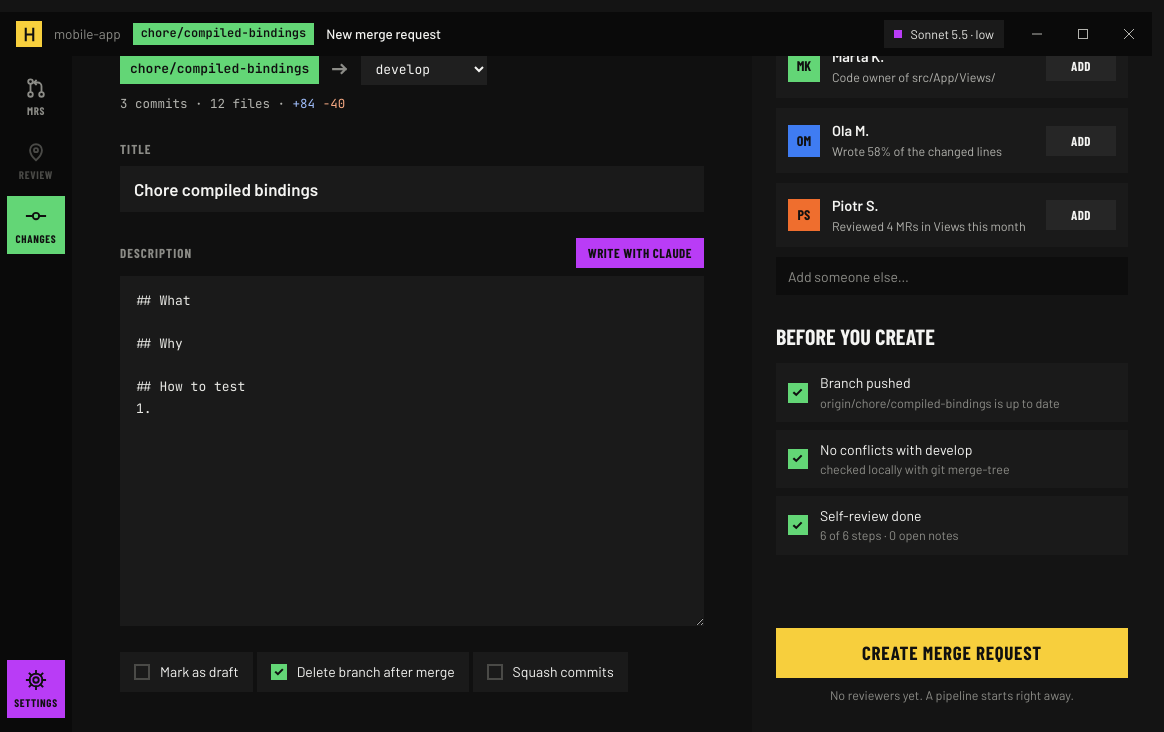
Scenario: S-11 options (F-27.4) › F-27.4 the button reads Create merge request, and Create draft MR while Mark as draft is on
The width and height of the screenshot is (1164, 732).
(page scrolled)
expect the button "Create merge request" is shown: met, box left=776, top=628, right=1128, bottom=678
expect the button "Create draft MR" is not shown: met
Click the checkbox labelled "Mark as draft". click: (186, 672)
box: left=120, top=652, right=253, bottom=692
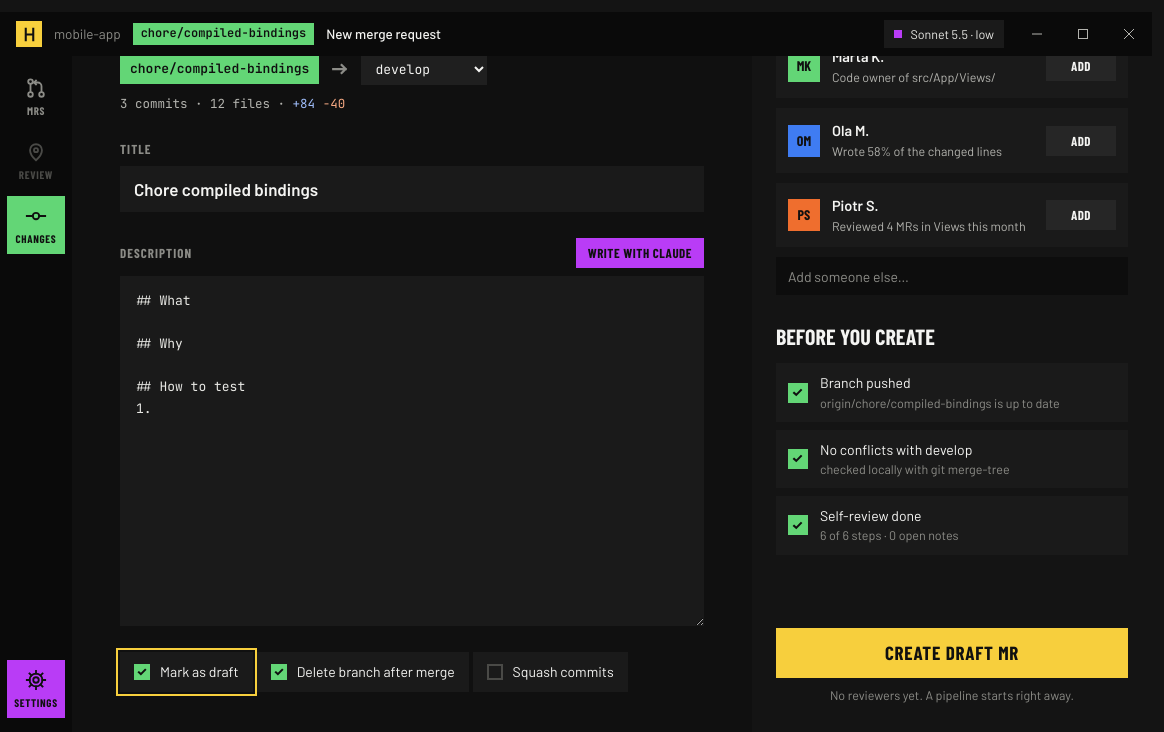
expect the button "Create draft MR" is shown: met, box left=776, top=628, right=1128, bottom=678
expect the button "Create merge request" is gone: met
Click the checkbox labelled "Mark as draft". click: (186, 672)
box: left=120, top=652, right=253, bottom=692
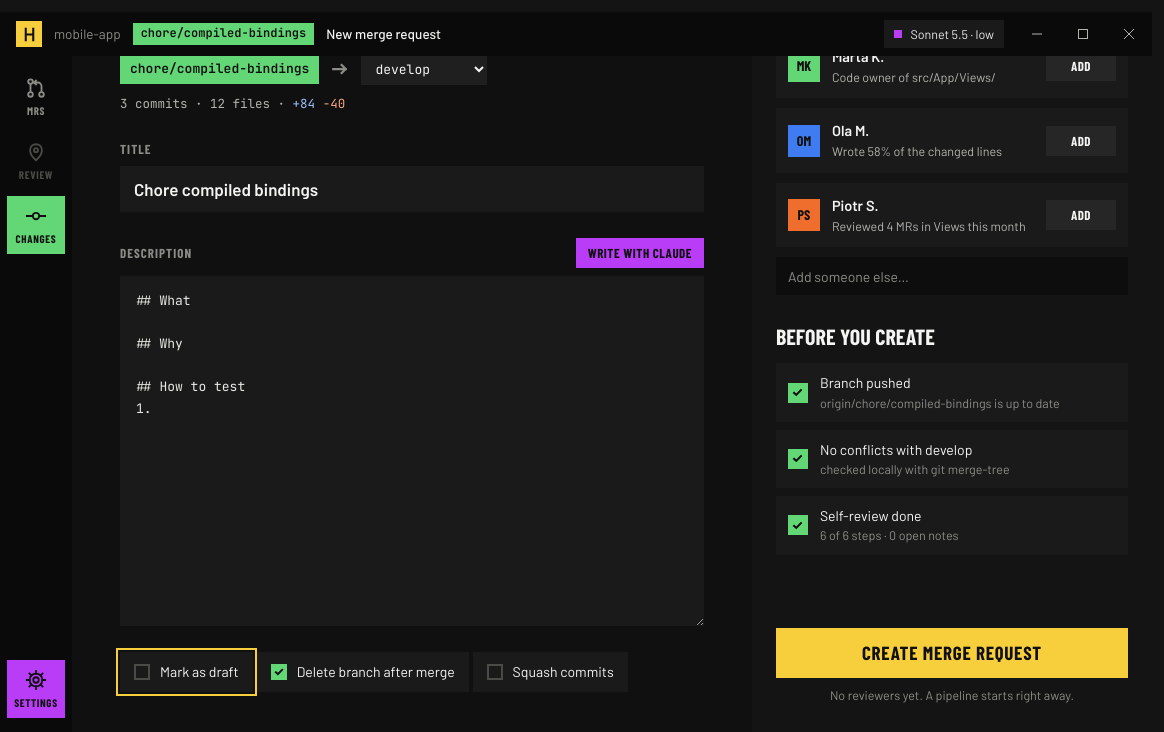
expect the button "Create merge request" is shown: met, box left=776, top=628, right=1128, bottom=678
expect the button "Create draft MR" is gone: met
